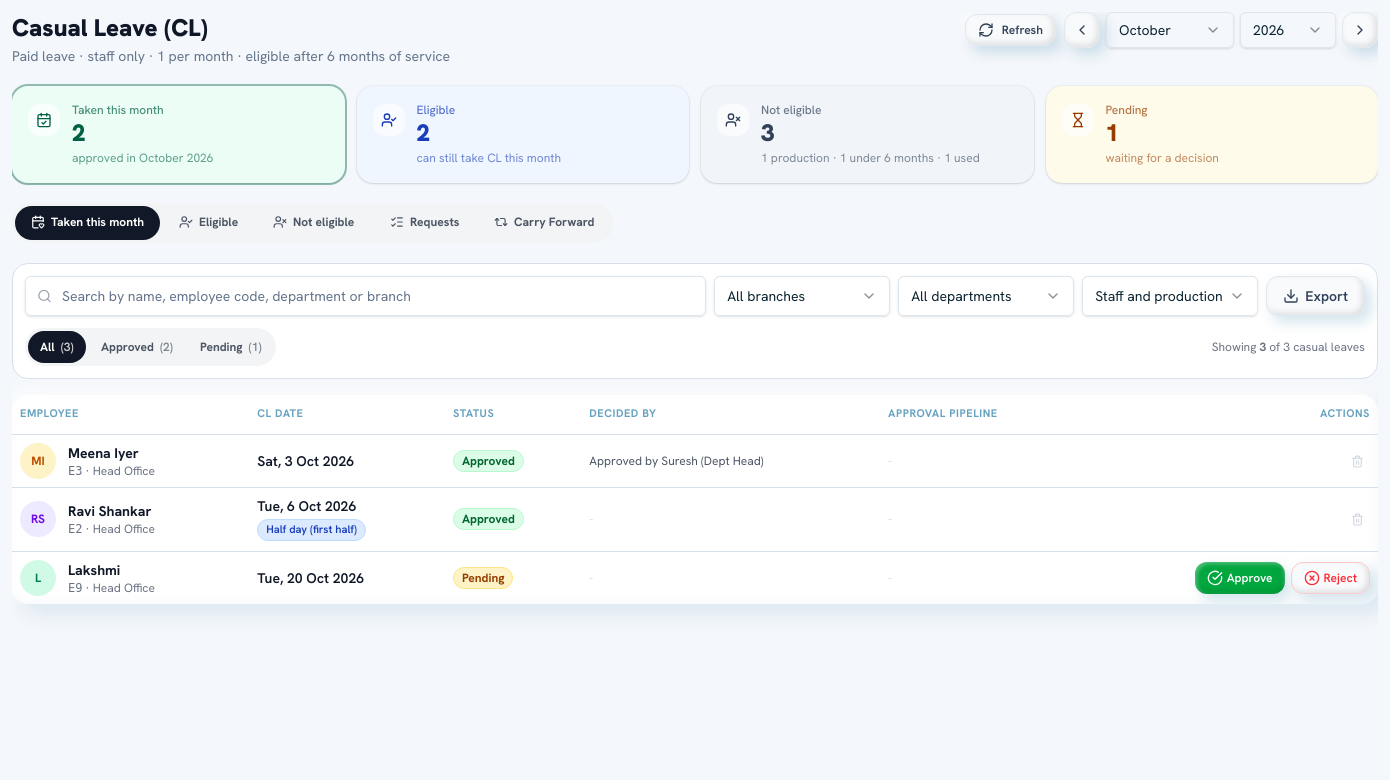
the Casual Leave page › names a half-day CL, and lists someone with one half-day left as still eligible
Click the tab "Eligible" at (209, 222), box [163,206,254,240]
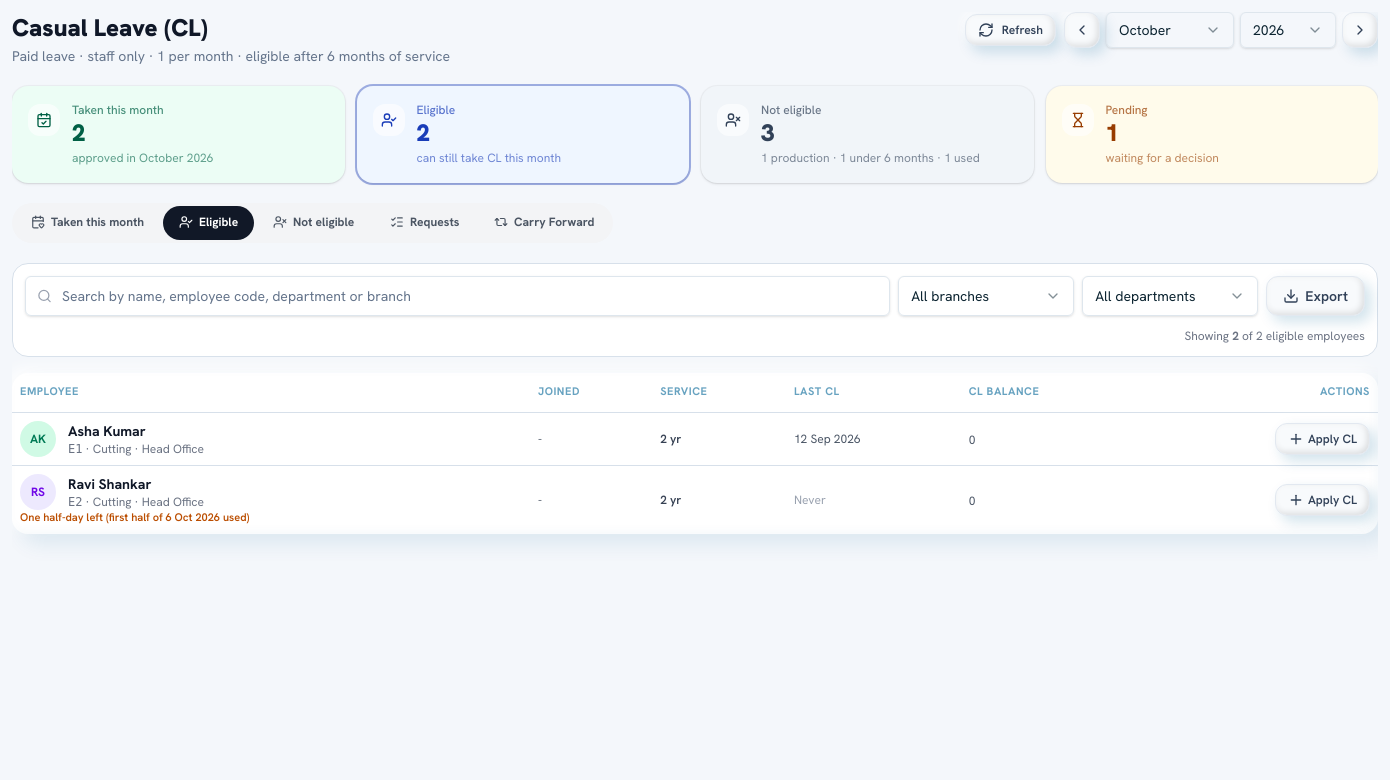
Result: the text "One half-day left (first half of 6 Oct 2026 used)" is shown at [20,510,249,524]
